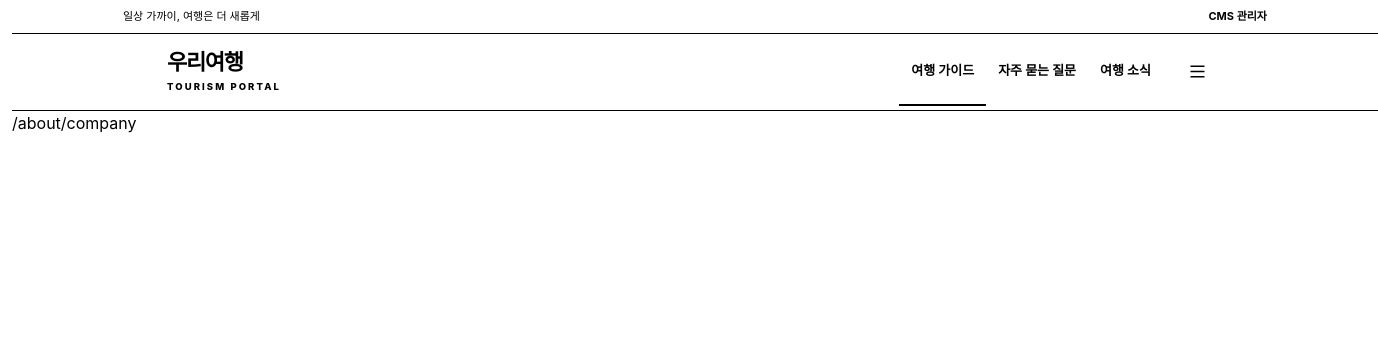
Test: desktop, mobile and sitemap parent links use the first CMS child; leaf links stay intact
Expected: the links read "여행 가이드", "자주 묻는 질문", "여행 소식", in this order, [899,37,986,106]; [998,62,1076,78]; [1100,62,1151,78]
Hover over the navigation bar named "주 메뉴" at (1031, 72), box [899,37,1163,106]
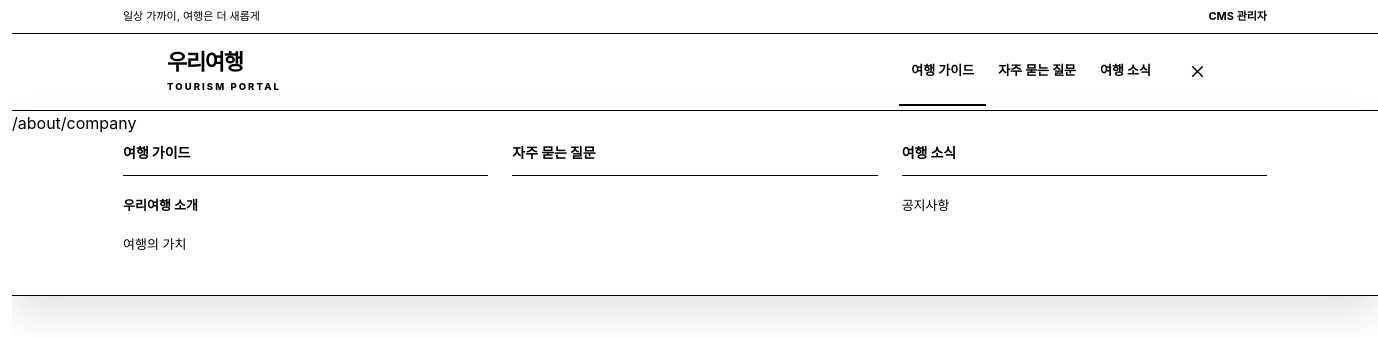
Expected: the link "우리여행 소개" is shown, [123,196,198,212]
Expected: the link "공지사항" is shown
Click the link "공지사항" at (926, 204), box [902,196,950,212]
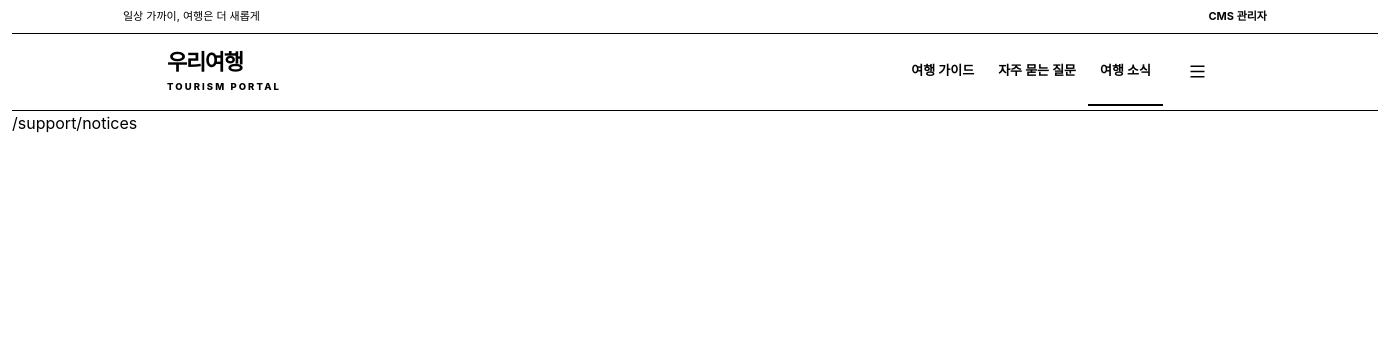
Expected: the text named "현재 주소" reads "/support/notices", [12,112,137,132]
